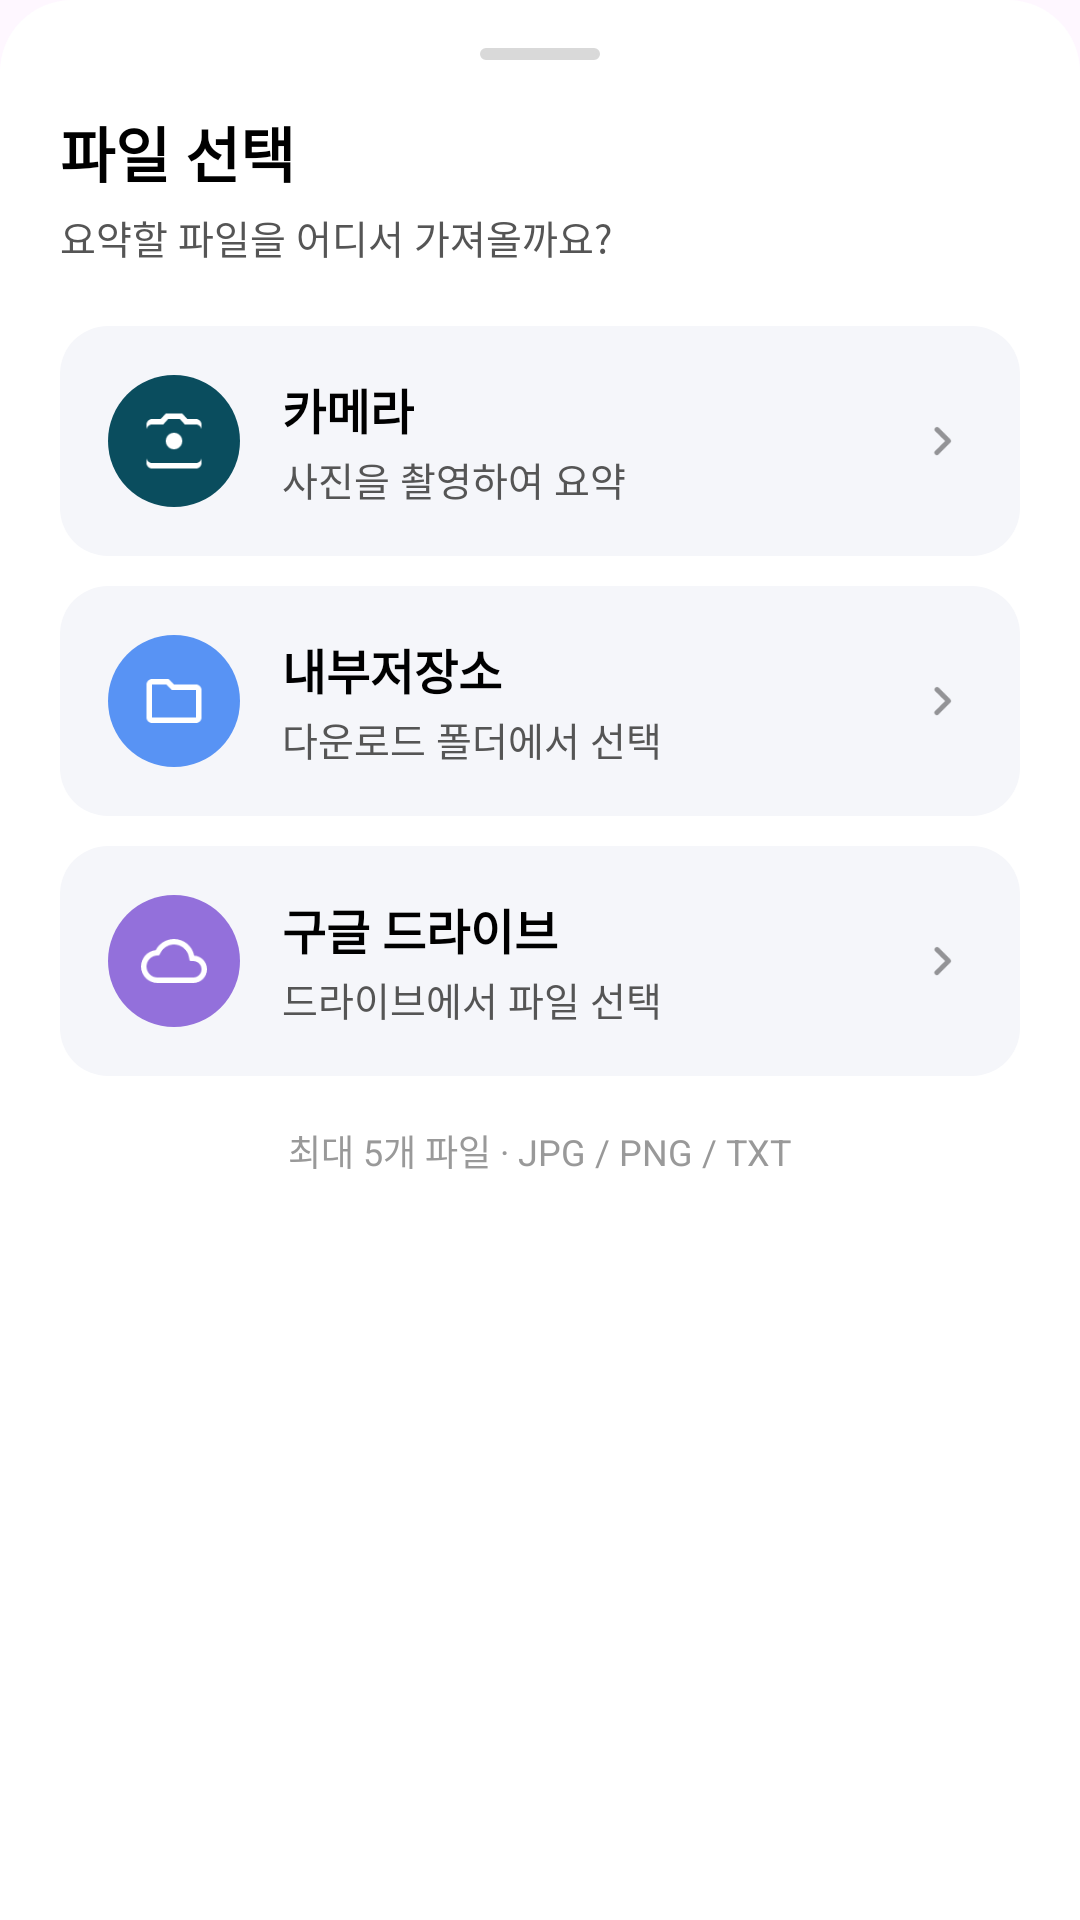

Named icons in this screenshot (1080x1920) and their bounding boxes, (left=x1, top=y1, right=x2, bottom=y2):
arrow right: (left=934, top=427, right=951, bottom=455), (left=934, top=687, right=951, bottom=715), (left=934, top=947, right=951, bottom=975)
camera: (left=146, top=413, right=202, bottom=469)
cloud: (left=141, top=939, right=207, bottom=983)
folder: (left=146, top=679, right=202, bottom=723)
